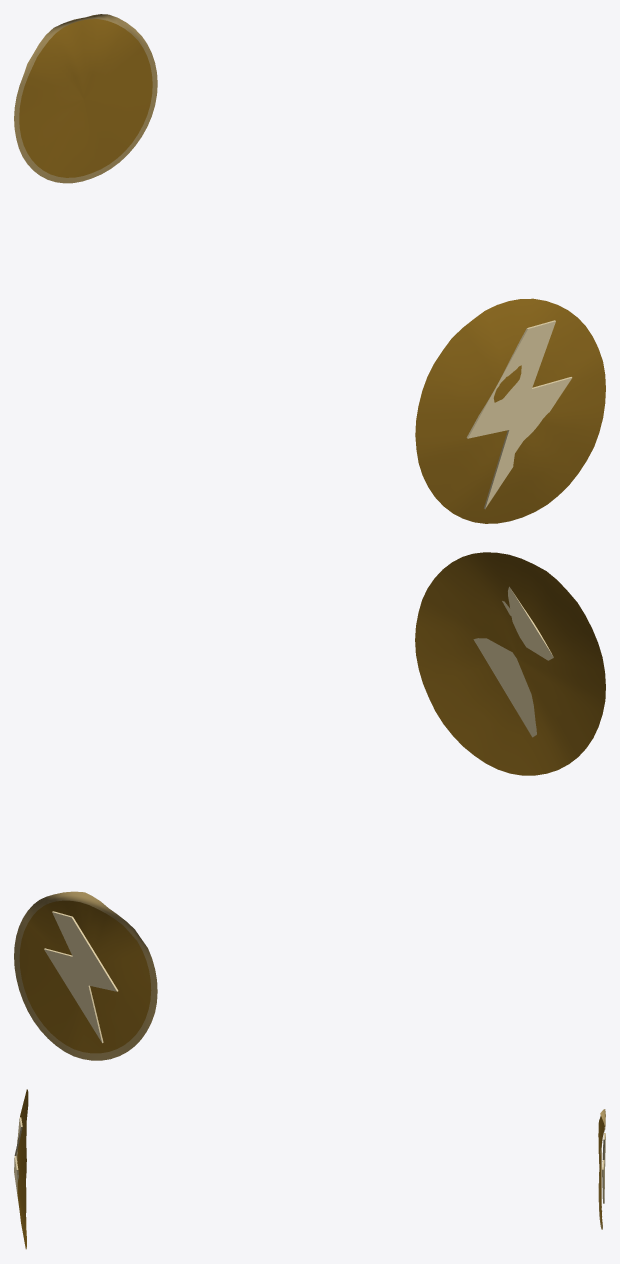
The model's file is swift_tonic_badge.glb.
3 views of the same model, one above another, from view 1: azimuth 30°, elevation 25°; view 2: azimuth 150°, elevation 25°; view 3: azimuth 270°, elevation 25° (orthographic). The views are drawn at different scales.
Parts seen in each view (by area): view 1: swift_tonic badge; view 2: swift_tonic badge; view 3: swift_tonic badge.
Boxes of the visible parts, <box> form: swift_tonic badge: <box>14,14,605,523</box>; swift_tonic badge: <box>14,552,605,1060</box>; swift_tonic badge: <box>14,1089,605,1249</box>.
Bounding box in the file's own units: 0.132 × 0.1452 × 0.5263.
